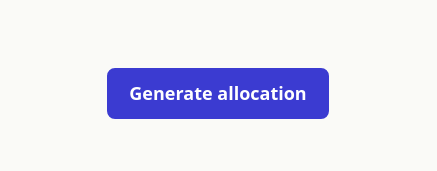
Test case: App › explains busy
The image size is (437, 171).
Step 1. Click the button "Generate allocation" → point(218, 93), box top-left (107, 68), bottom-right (329, 118)
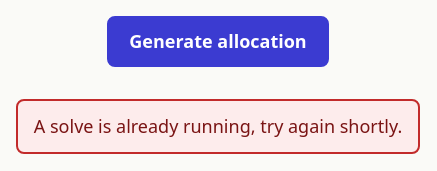
expect the text "A solve is already running, try again shortly." is shown: met, box top-left (34, 113), bottom-right (402, 140)
